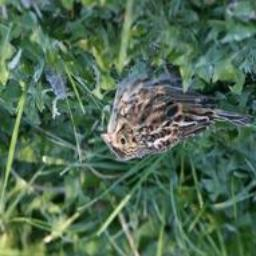Sparrow: (97, 59, 256, 164)
